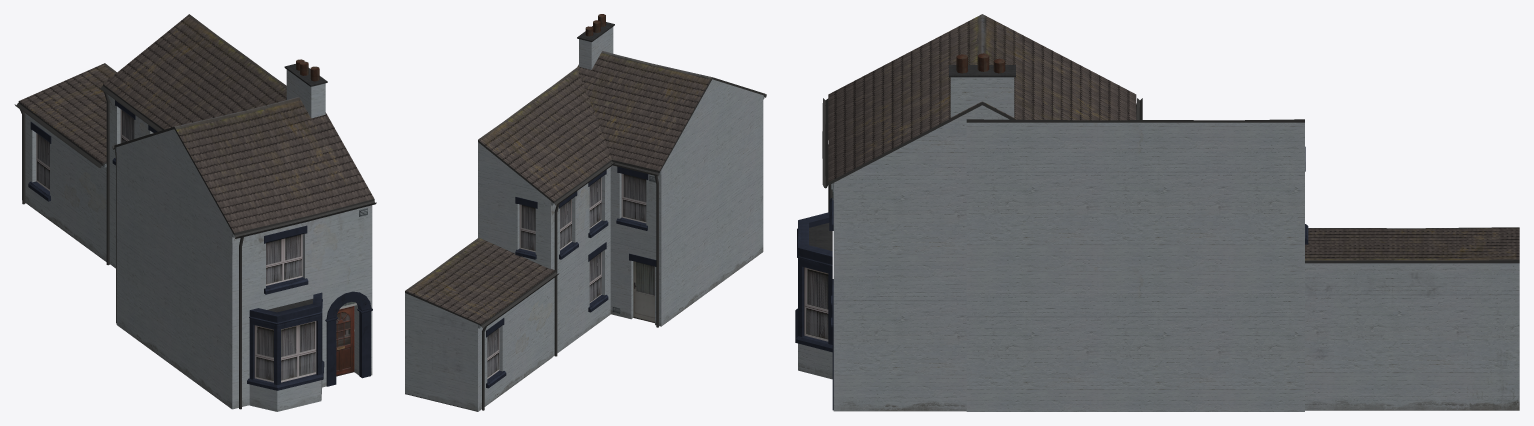
File: ukterracedvictorian9.FBX
3 renders of one model, left to right at view 1: azimuth 30°, elevation 25°; view 2: azimuth 150°, elevation 25°; view 3: azimuth 270°, elevation 25°, orthographic. The views are drawn at different scales.
Parts seen in each view (by area): view 1: Object003; view 2: Object003; view 3: Object003.
Boxes of the visible parts, x1=… form: Object003: x1=14, y1=14, x2=376, y2=411; Object003: x1=405, y1=14, x2=766, y2=411; Object003: x1=795, y1=14, x2=1519, y2=411.
Bounding box in the file's own units: 561 × 1041 × 1949.
